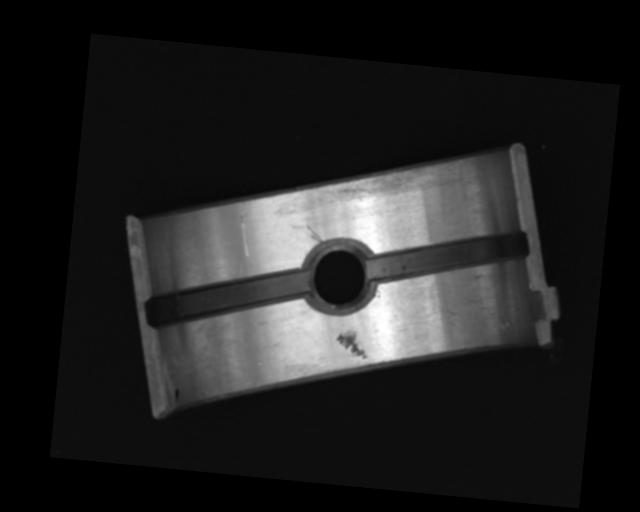blot: (173, 386, 180, 404)
bruise: (334, 327, 371, 359), (439, 307, 460, 318), (499, 320, 512, 331)
gap: (147, 254, 309, 340), (366, 218, 530, 291)
hole: (300, 236, 379, 313)
nick: (237, 198, 255, 257), (305, 225, 325, 242)
scratch: (319, 144, 468, 214)
